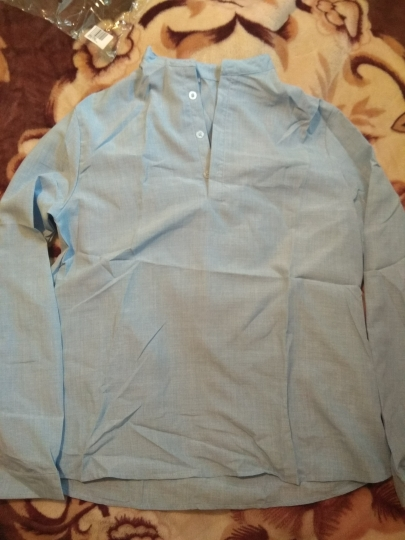shirts: (15, 56, 405, 509)
